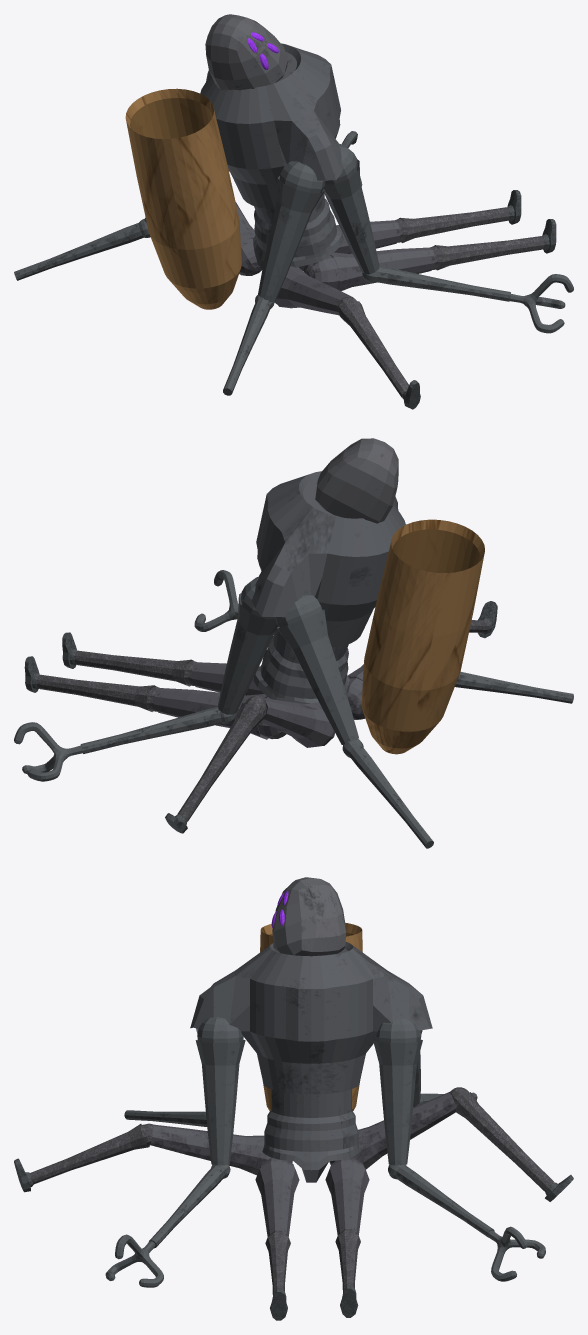
File: HarvasterGolem_Final.fbx
3 renders of one model, top to bottom at view 1: azimuth 30°, elevation 25°; view 2: azimuth 150°, elevation 25°; view 3: azimuth 270°, elevation 25°, orthographic. The views are drawn at different scales.
Visible parts, largest first — view 1: Basket.001, Torso.001, Head.001, UpperBackRightArm.001, UpperRightArm.001, UpperFrontRightLeg.001, UpperBackRightLeg.001, LowerFrontLeftLeg.001, LowerFrontRightLeg.001, LowerBackRightLeg.001, LowerRightArm.001, LowerBackLeftArm.001 (+4 smaller); view 2: Basket.001, Torso.001, Head.001, UpperBackLeftArm.001, UpperLeftArm.001, LowerBackLeftLeg.001, UpperBackLeftLeg.001, LowerFrontLeftLeg.001, LowerFrontRightLeg.001, LowerLeftArm.001, UpperFrontLeftLeg.001, LowerBackLeftArm.001 (+5 smaller); view 3: Torso.001, UpperRightArm.001, UpperLeftArm.001, Head.001, UpperBackRightLeg.001, UpperFrontRightLeg.001, UpperFrontLeftLeg.001, LowerBackLeftLeg.001, UpperBackLeftLeg.001, LowerBackRightLeg.001, LowerLeftArm.001, LowerRightArm.001 (+6 smaller).
Boxes of the visible parts, <box> form: Basket.001: <box>125,88,241,309</box>; Torso.001: <box>200,43,343,270</box>; Head.001: <box>205,14,287,90</box>; UpperBackRightArm.001: <box>258,161,325,302</box>; UpperRightArm.001: <box>323,143,379,274</box>; UpperFrontRightLeg.001: <box>303,247,435,291</box>; UpperBackRightLeg.001: <box>274,266,353,315</box>; LowerFrontLeftLeg.001: <box>395,207,509,242</box>; LowerFrontRightLeg.001: <box>430,236,544,270</box>; LowerBackRightLeg.001: <box>337,297,408,398</box>; LowerRightArm.001: <box>362,266,510,301</box>; LowerBackLeftArm.001: <box>14,219,150,280</box>; Basket.001: <box>361,519,484,754</box>; Torso.001: <box>251,471,405,703</box>; Head.001: <box>315,438,398,523</box>; UpperBackLeftArm.001: <box>275,595,358,744</box>; UpperLeftArm.001: <box>218,576,278,714</box>; LowerBackLeftLeg.001: <box>177,695,266,821</box>; UpperBackLeftLeg.001: <box>261,698,334,747</box>; LowerFrontLeftLeg.001: <box>37,674,159,711</box>; LowerFrontRightLeg.001: <box>74,650,197,686</box>; LowerLeftArm.001: <box>80,707,236,753</box>; UpperFrontLeftLeg.001: <box>154,688,286,739</box>; LowerBackLeftArm.001: <box>342,739,433,848</box>; Torso.001: <box>190,942,432,1182</box>; UpperRightArm.001: <box>195,1017,245,1165</box>; UpperLeftArm.001: <box>373,1018,422,1165</box>; Head.001: <box>272,877,346,956</box>; UpperBackRightLeg.001: <box>150,1124,292,1175</box>; UpperFrontRightLeg.001: <box>255,1157,299,1236</box>; UpperFrontLeftLeg.001: <box>325,1157,369,1235</box>; LowerBackLeftLeg.001: <box>450,1087,553,1191</box>; UpperBackLeftLeg.001: <box>329,1091,456,1169</box>; LowerBackRightLeg.001: <box>30,1123,154,1184</box>; LowerLeftArm.001: <box>388,1164,494,1237</box>; LowerRightArm.001: <box>148,1164,230,1248</box>.
Size of the model in its own units: 2.25 by 1.43 by 2.47.
